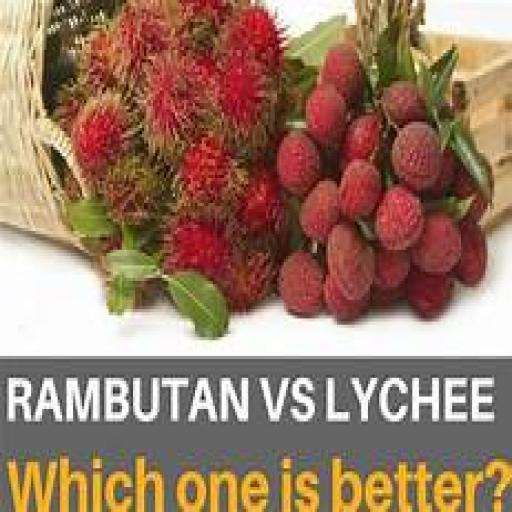lychee: (142, 54, 203, 156), (218, 57, 274, 159), (71, 94, 128, 184), (162, 219, 230, 284), (114, 4, 170, 81), (180, 138, 239, 206), (100, 157, 159, 224), (326, 222, 374, 302), (227, 7, 283, 71), (393, 122, 443, 193), (224, 250, 277, 312), (375, 185, 423, 252), (413, 213, 461, 274), (280, 250, 323, 318), (240, 172, 285, 234), (278, 132, 321, 196), (322, 44, 365, 106), (340, 160, 383, 221), (306, 85, 347, 146), (300, 182, 339, 243), (406, 269, 454, 318), (324, 275, 370, 324), (342, 113, 383, 165), (457, 219, 487, 287), (382, 82, 427, 127), (453, 166, 489, 221), (375, 247, 410, 290), (428, 150, 458, 199)
